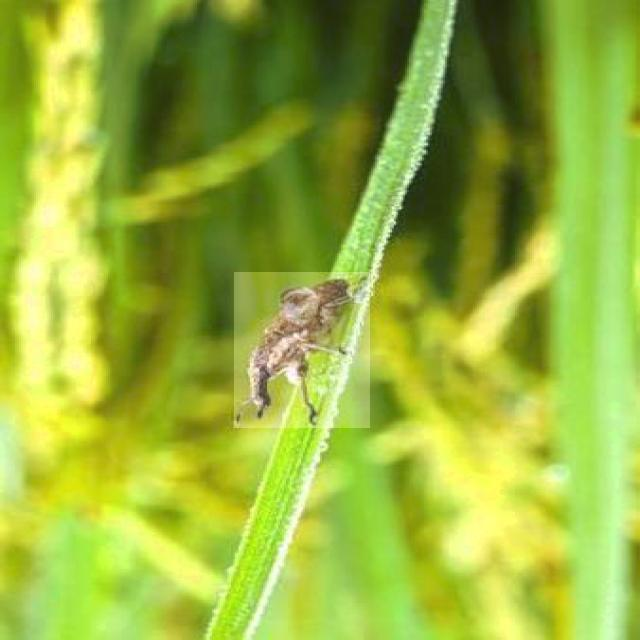rice-bug: (234, 272, 370, 428)
